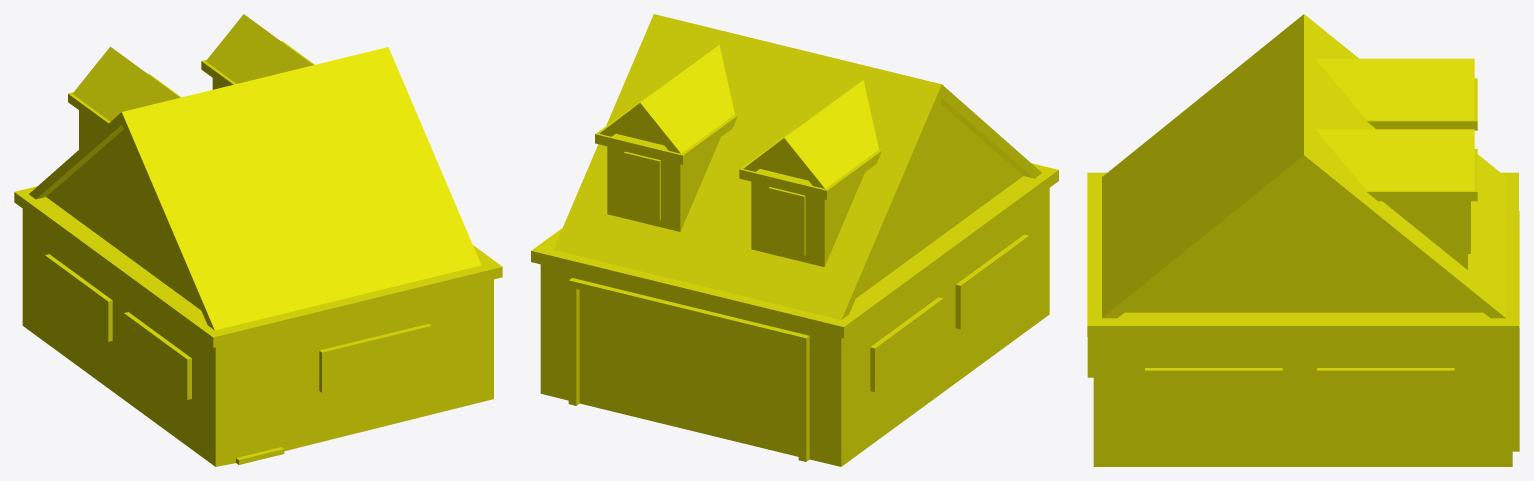
File: Building_Garage_02.glb
3 renders of one model, left to right at view 1: azimuth 30°, elevation 25°; view 2: azimuth 150°, elevation 25°; view 3: azimuth 270°, elevation 25°, orthographic. The views are drawn at different scales.
Visible parts, largest first — view 1: Building_Garage_02; view 2: Building_Garage_02; view 3: Building_Garage_02.
Boxes of the visible parts, x1,y1,x2,y2 form: Building_Garage_02: (14, 14, 502, 466); Building_Garage_02: (531, 14, 1058, 466); Building_Garage_02: (1087, 14, 1519, 466).
Size of the model in its own units: 0.1237 by 0.1161 by 0.1474.
Materials: 1 (1 with a texture image).
